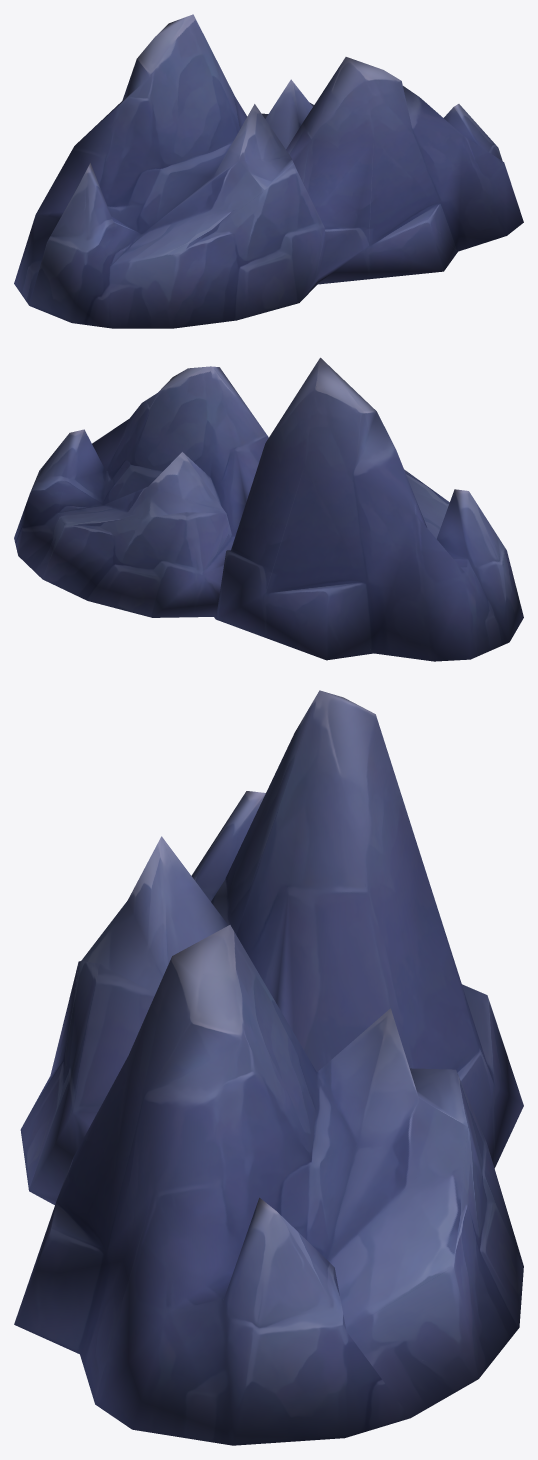
File: Amethyst_Range_2x1.fbx
3 views of the same model, one above another, from view 1: azimuth 30°, elevation 25°; view 2: azimuth 150°, elevation 25°; view 3: azimuth 270°, elevation 25° (orthographic). The views are drawn at different scales.
Visible parts, largest first — view 1: Amethyst_Range_2x1; view 2: Amethyst_Range_2x1; view 3: Amethyst_Range_2x1.
Part boxes in pixels (<box>): Amethyst_Range_2x1: <box>14,14,523,328</box>; Amethyst_Range_2x1: <box>14,357,523,661</box>; Amethyst_Range_2x1: <box>14,690,523,1445</box>.
Bounding box in the file's own units: 1.92 × 0.9376 × 0.92.
1 material, 1 textured.
